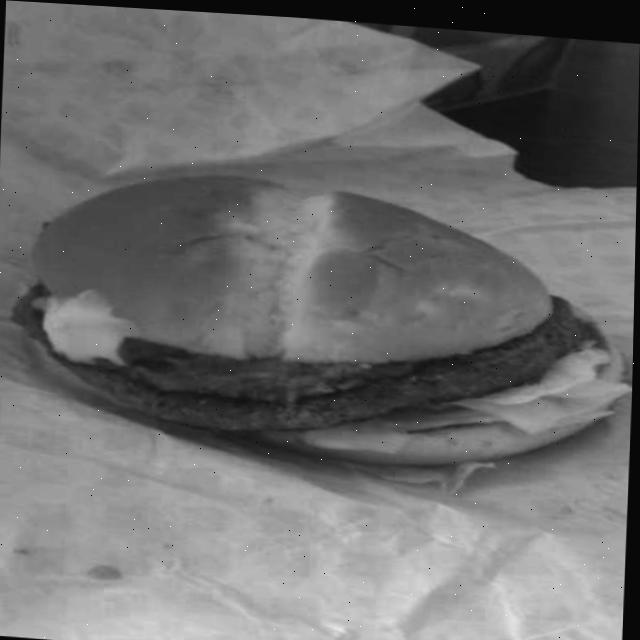汉堡快餐: (6, 159, 621, 497)
